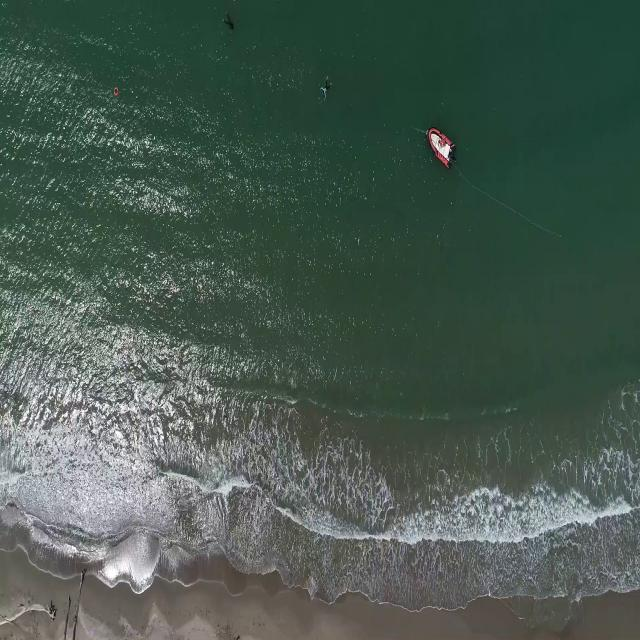boat: (427, 126, 455, 171)
life_buoy: (112, 86, 120, 98)
person: (319, 78, 333, 104), (223, 15, 238, 32)
wood: (64, 569, 86, 640), (0, 600, 61, 624)
